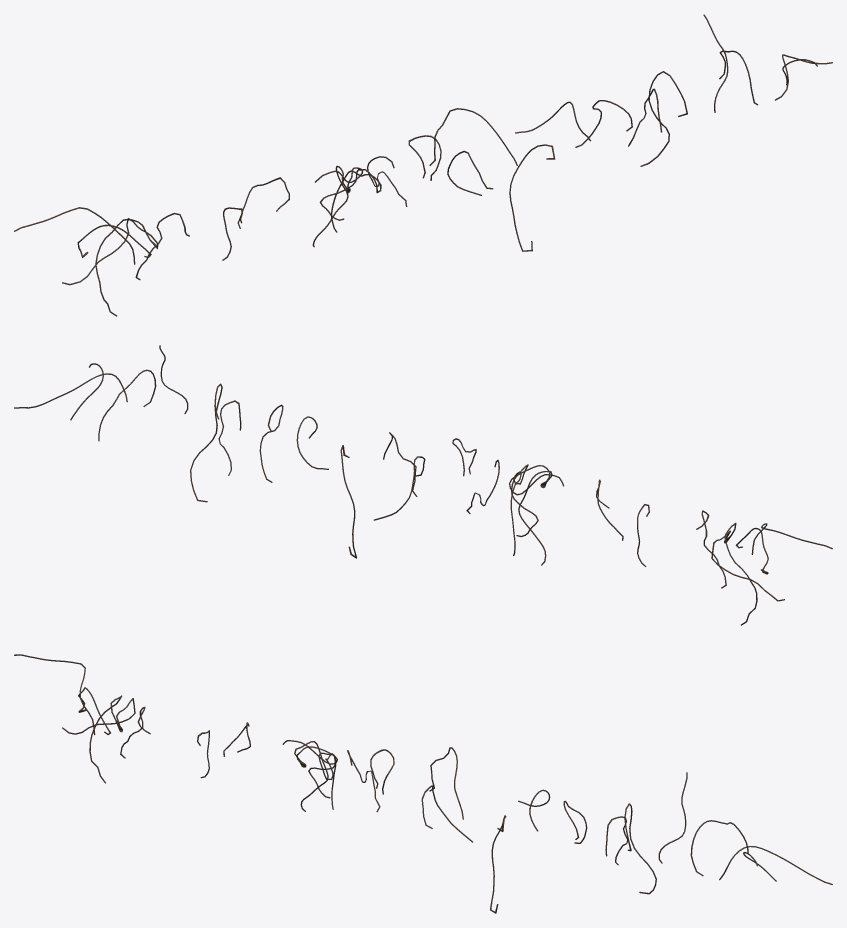
Rendered from MOD_BigWall_DebrisWires.fbx.
3 renders of one model, top to bottom at view 1: azimuth 30°, elevation 25°; view 2: azimuth 150°, elevation 25°; view 3: azimuth 330°, elevation 25°, orthographic. The views are drawn at different scales.
Visible parts, largest first — view 1: MOD_BigWall_DebrisWires; view 2: MOD_BigWall_DebrisWires; view 3: MOD_BigWall_DebrisWires.
Boxes of the visible parts, x1=… form: MOD_BigWall_DebrisWires: x1=14, y1=14, x2=832, y2=316; MOD_BigWall_DebrisWires: x1=14, y1=345, x2=832, y2=625; MOD_BigWall_DebrisWires: x1=14, y1=654, x2=832, y2=913.
Bounding box in the file's own units: 1048 × 219 × 112.
Materials: 1 (1 with a texture image).
